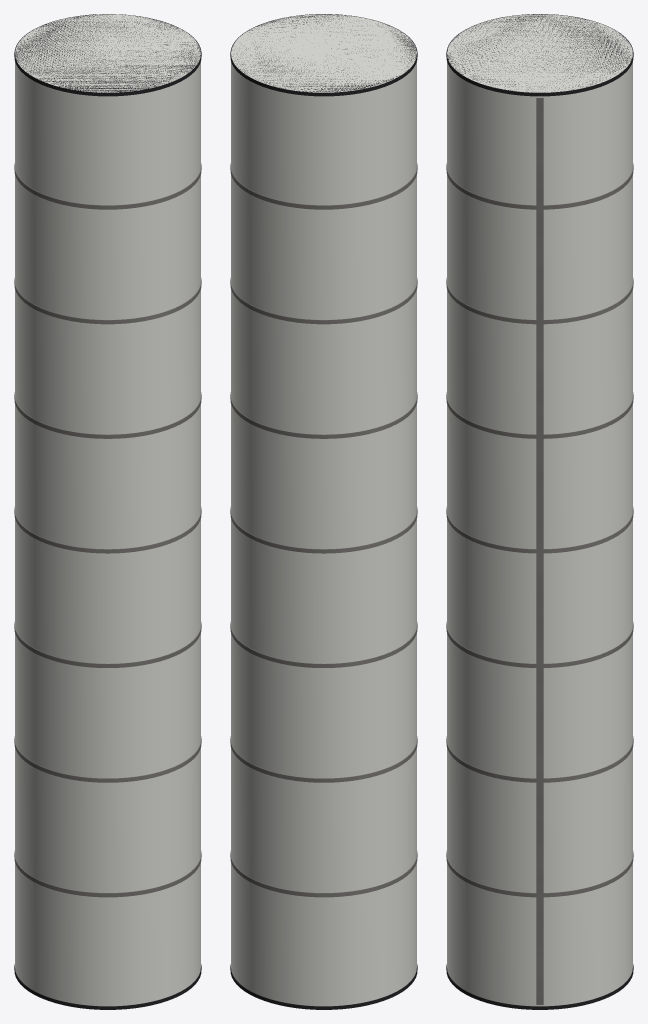
File: tank13_tank_length_series_s_double.glb
3 renders of one model, left to right at view 1: azimuth 30°, elevation 25°; view 2: azimuth 150°, elevation 25°; view 3: azimuth 270°, elevation 25°, orthographic.
Parts seen in each view (by area): view 1: tank, stack_flanges, ring_frames; view 2: tank, ring_frames, stack_flanges; view 3: tank, feedline, ring_frames, stack_flanges.
Part boxes in pixels (x1=…): tank: x1=15, y1=14, x2=200, y2=1006; stack_flanges: x1=14, y1=14, x2=201, y2=1009; ring_frames: x1=14, y1=163, x2=201, y2=897; tank: x1=231, y1=14, x2=416, y2=1006; ring_frames: x1=230, y1=163, x2=417, y2=897; stack_flanges: x1=230, y1=14, x2=417, y2=1009; tank: x1=447, y1=14, x2=632, y2=1006; feedline: x1=536, y1=97, x2=543, y2=1004; ring_frames: x1=446, y1=163, x2=633, y2=897; stack_flanges: x1=446, y1=14, x2=633, y2=1009.
Size of the model in its own units: 1.26 by 6.8 by 1.26.
Materials: 3 (1 with a texture image).
